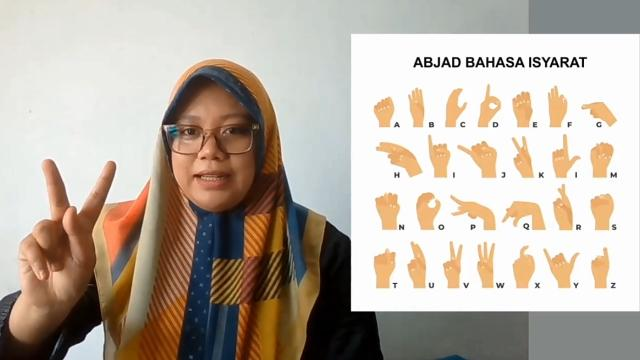K: (18, 157, 118, 313)
